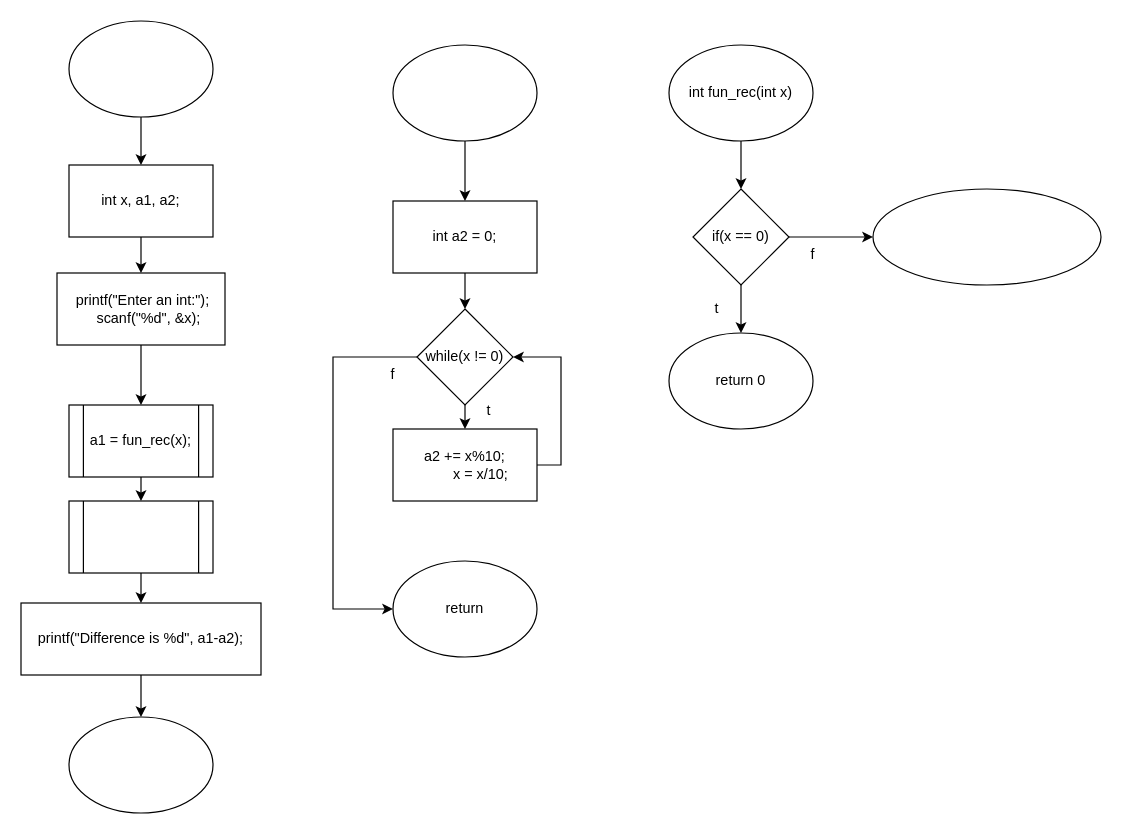
The diagram is 1122 pixels wide and 834 high, and some of its shapes have lost their labels. Each missing label, with the centre of its shape:
a2 = fun_nonrec(x);: the point at 140,536
else return x%10+fun_rec(x/10);: the point at 986,236
End: the point at 140,764
int fun_nonrec(int x): the point at 464,92
Start: the point at 140,68
